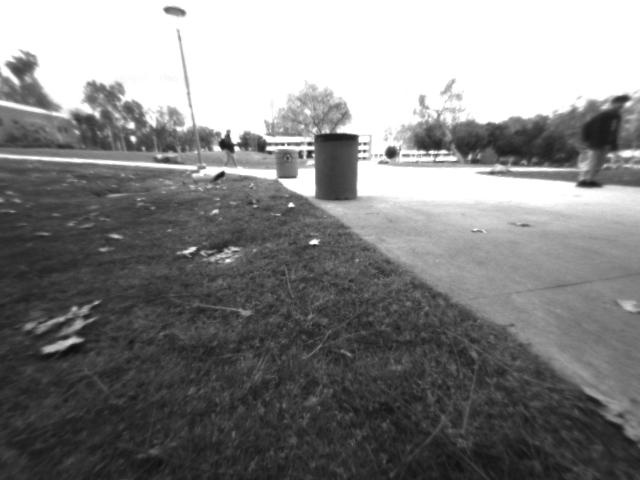trashcan: (311, 131, 361, 202), (272, 146, 304, 185)
